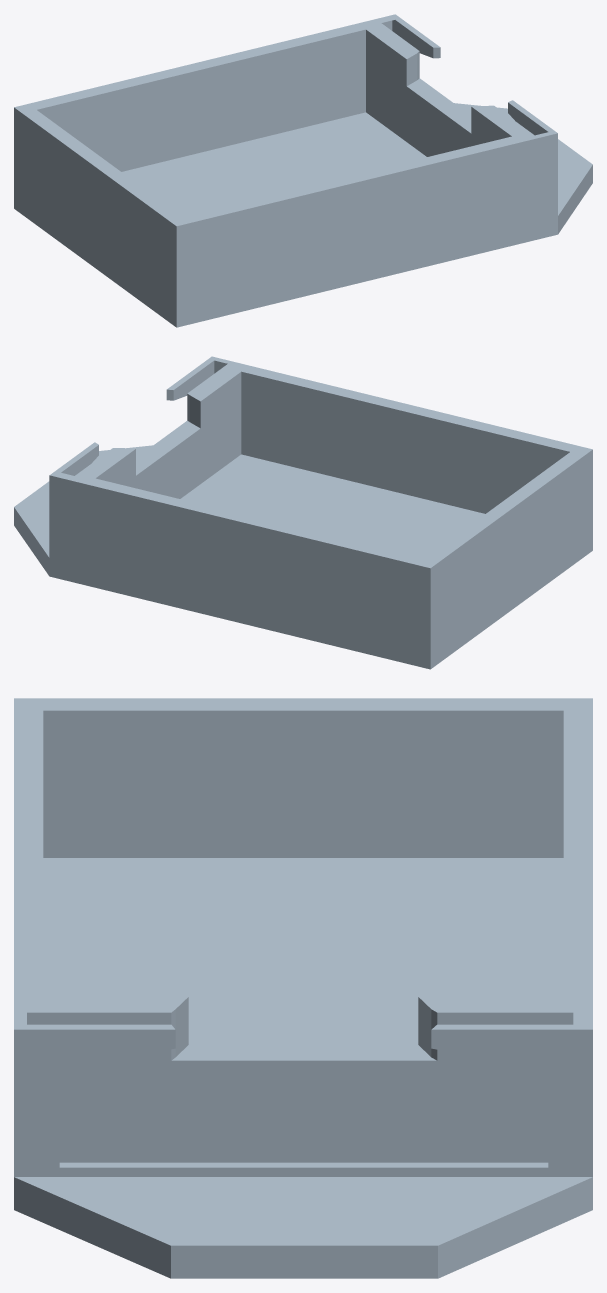
File: sensor-holder-d37363d5.glb
3 views of the same model, one above another, from view 1: azimuth 30°, elevation 25°; view 2: azimuth 150°, elevation 25°; view 3: azimuth 270°, elevation 25° (orthographic). The views are drawn at different scales.
Visible parts, largest first — view 1: Drawer_with_label_slot_and_longer_handle; view 2: Drawer_with_label_slot_and_longer_handle; view 3: Drawer_with_label_slot_and_longer_handle.
Boxes of the visible parts, x1,y1,x2,y2 form: Drawer_with_label_slot_and_longer_handle: [14, 14, 592, 327]; Drawer_with_label_slot_and_longer_handle: [14, 356, 592, 669]; Drawer_with_label_slot_and_longer_handle: [14, 698, 592, 1278].
Size of the model in its own units: 2.5 by 0.5258 by 1.53.
